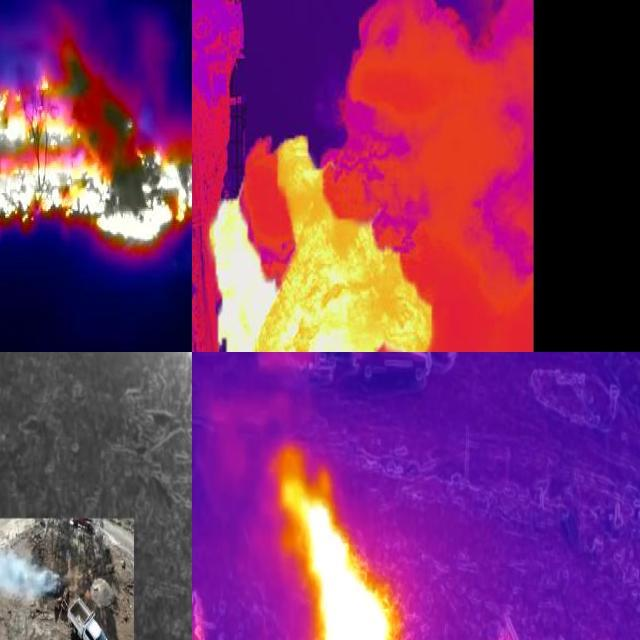fire: (205, 112, 448, 353), (1, 61, 193, 251), (279, 457, 395, 640)
